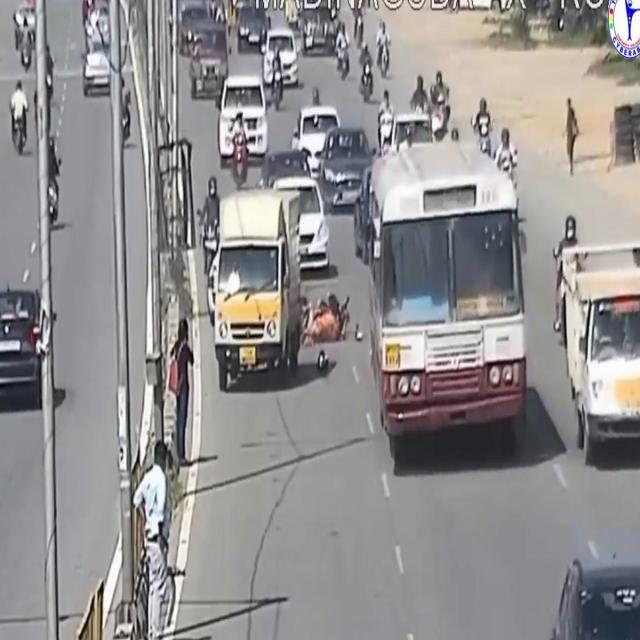accident: (299, 267, 357, 387)
non_accident: (165, 0, 333, 176), (48, 0, 112, 120)
